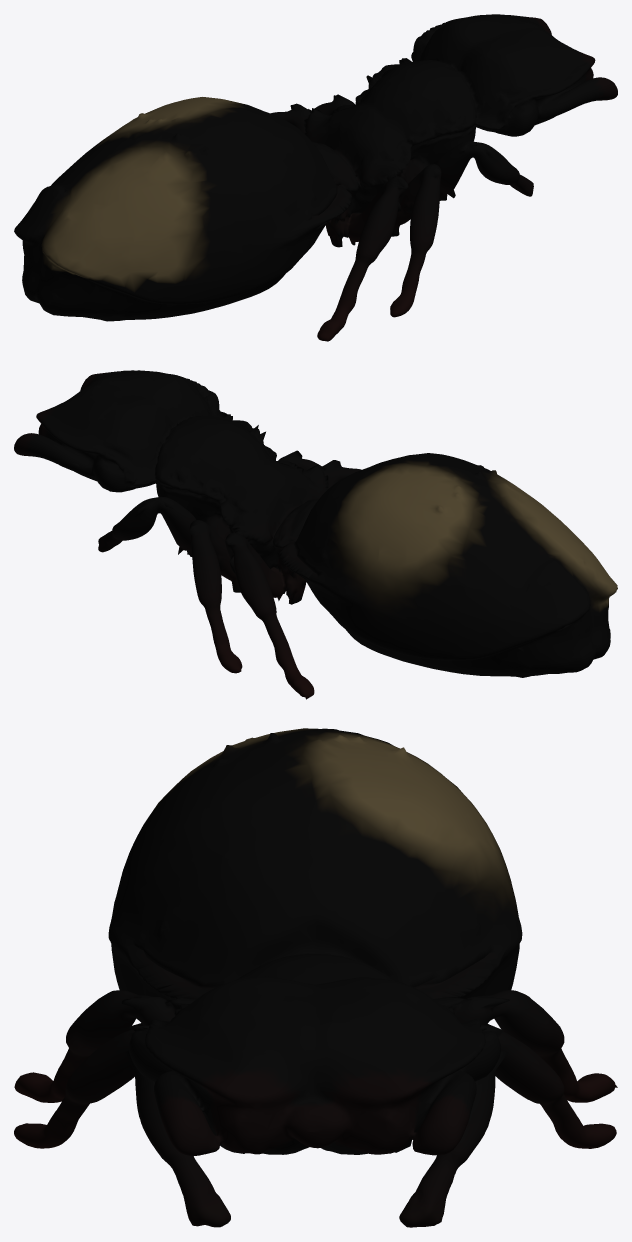
The model's file is cephalotes_queen.glb.
3 views of the same model, one above another, from view 1: azimuth 30°, elevation 25°; view 2: azimuth 150°, elevation 25°; view 3: azimuth 270°, elevation 25° (orthographic). The views are drawn at different scales.
Parts seen in each view (by area): view 1: cephalotes_q; view 2: cephalotes_q; view 3: cephalotes_q.
Part boxes in pixels (x1,y1,x2,y2): cephalotes_q: [14, 14, 617, 341]; cephalotes_q: [14, 370, 617, 699]; cephalotes_q: [14, 728, 617, 1227].
Size of the model in its own units: 1 by 0.3239 by 0.5602.
